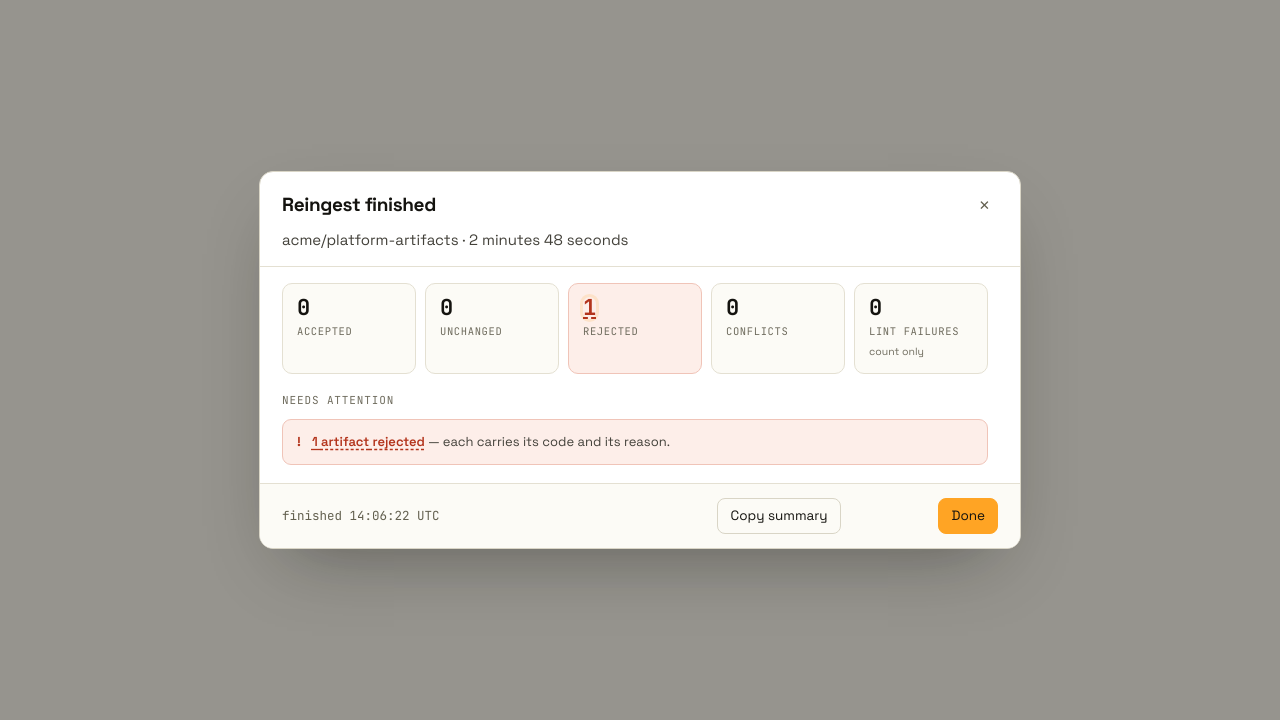
Test case: the finished reingest report › returns to the counts from a footer control beside Done
Click the button "1 artifact rejected".
click(368, 442)  # box x1=312 y1=432 x2=425 y2=452
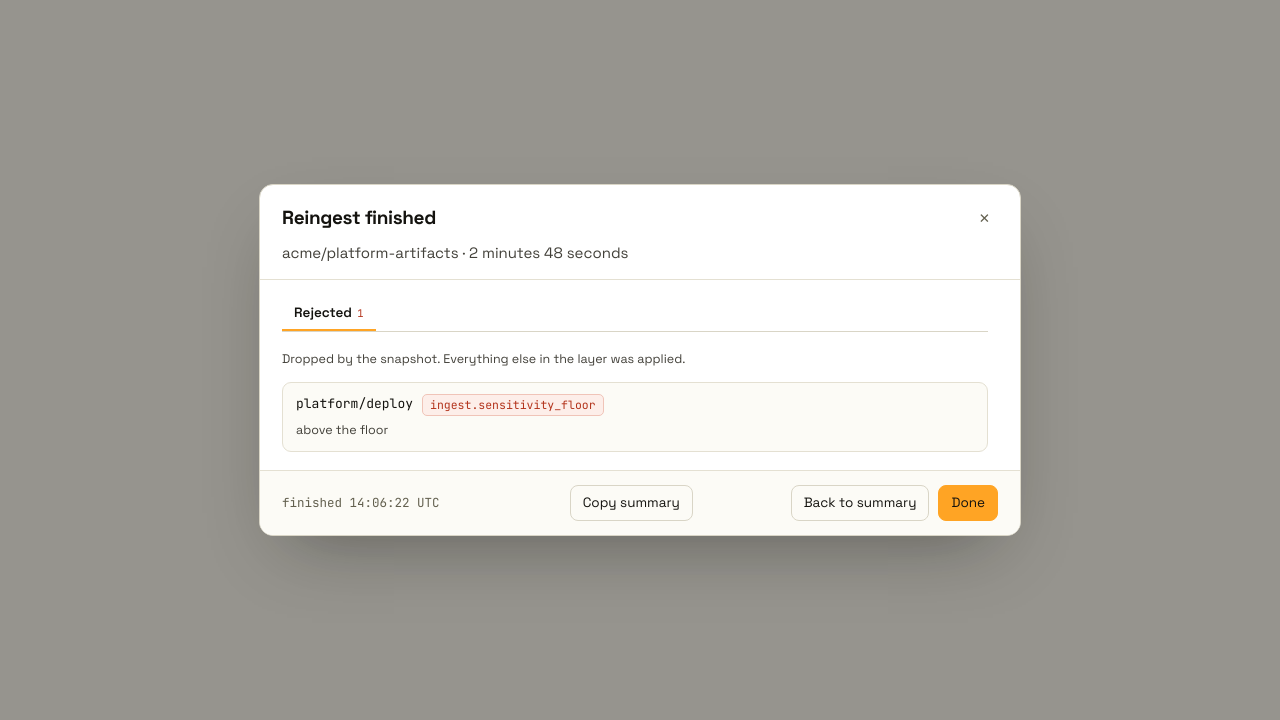
Expected: the button "Done" is shown, x1=938 y1=485 x2=998 y2=521
Result: the element "Back to summary" is shown at x1=260 y1=470 x2=1020 y2=535
Click the button "Back to summary".
click(860, 503)  # box x1=791 y1=485 x2=929 y2=521
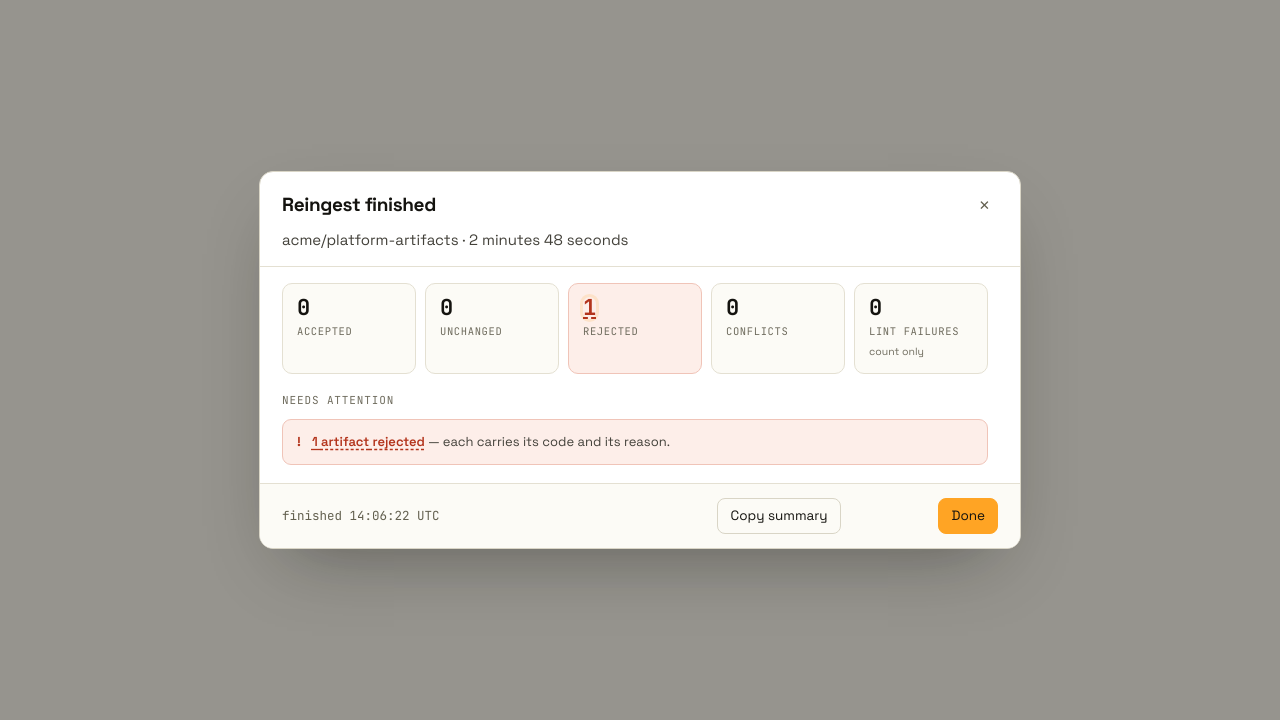
Result: the element named "Ingest counts" is shown at x1=282 y1=283 x2=988 y2=374
